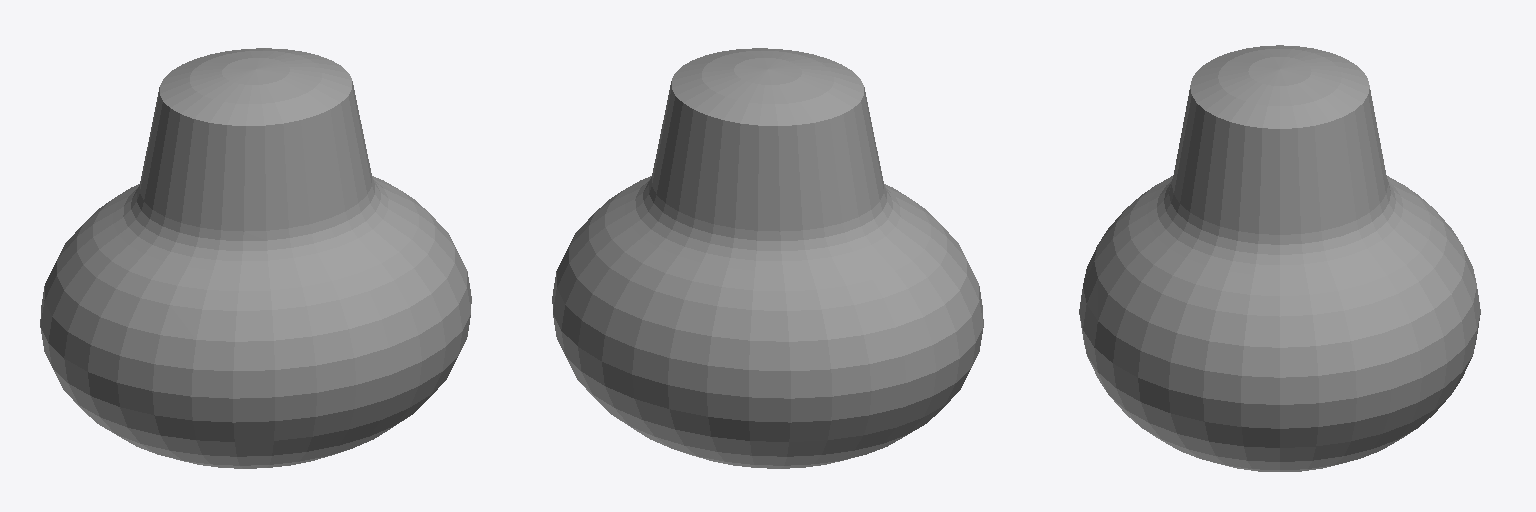
The model's file is light_bulb_3.obj.
The picture shows the model from 3 angles: view 1: azimuth 30°, elevation 25°; view 2: azimuth 150°, elevation 25°; view 3: azimuth 270°, elevation 25°; orthographic projection.
Parts seen in each view (by area): view 1: light_bulb_1.002_Sphere003.002; view 2: light_bulb_1.002_Sphere003.002; view 3: light_bulb_1.002_Sphere003.002.
Part boxes in pixels (bbox=[...]): light_bulb_1.002_Sphere003.002: bbox=[40, 48, 471, 468]; light_bulb_1.002_Sphere003.002: bbox=[552, 48, 983, 468]; light_bulb_1.002_Sphere003.002: bbox=[1079, 45, 1480, 471].
Bounding box in the file's own units: 0.1584 × 0.1472 × 0.1437.